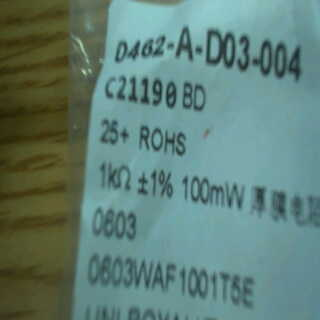1kR: (96, 157, 136, 193)
